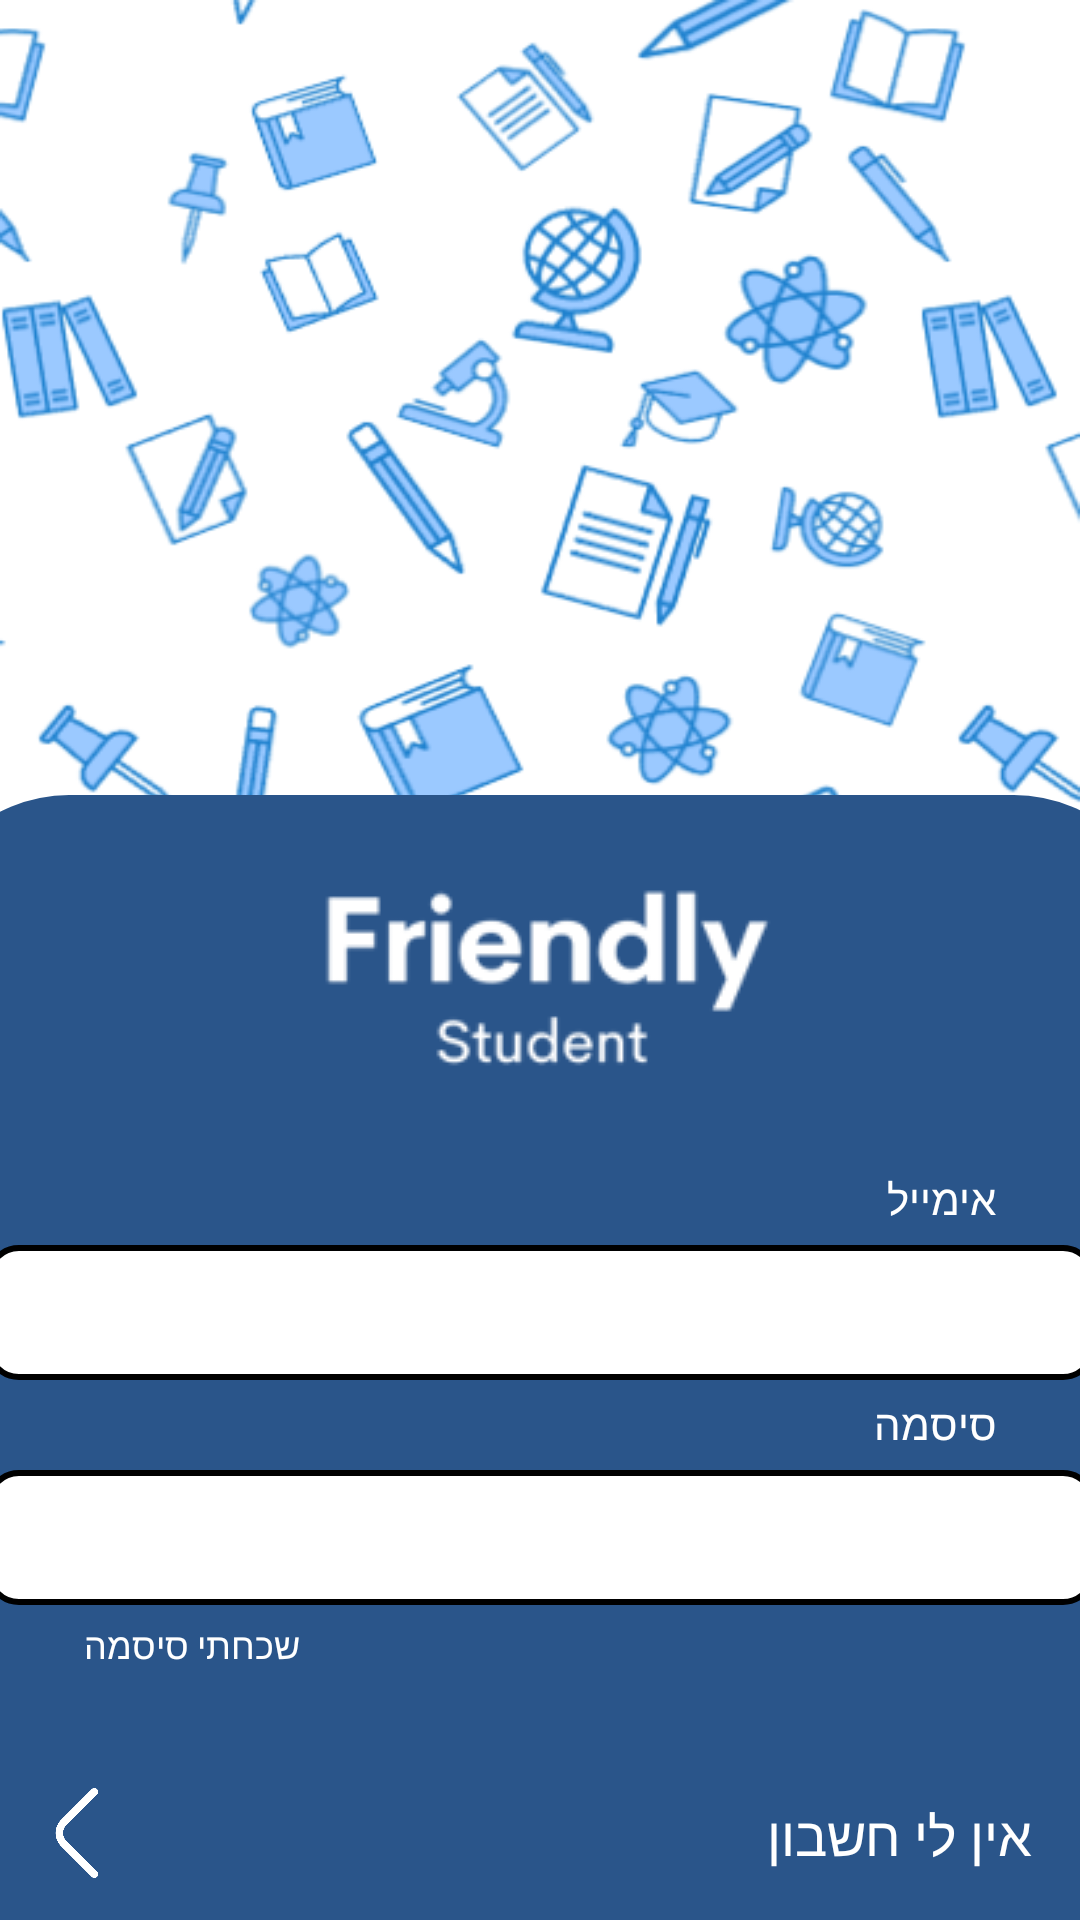

Icons on this 1080×1920 Android screen, each with its box as region(x1, y1, x2, y2):
arrow: region(55, 1788, 98, 1878)
